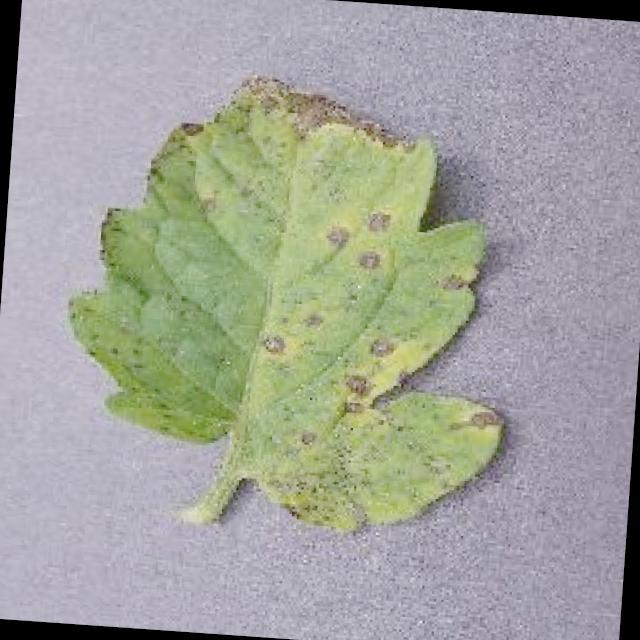Tomato Septoria spot leaf: (52, 58, 532, 543)
